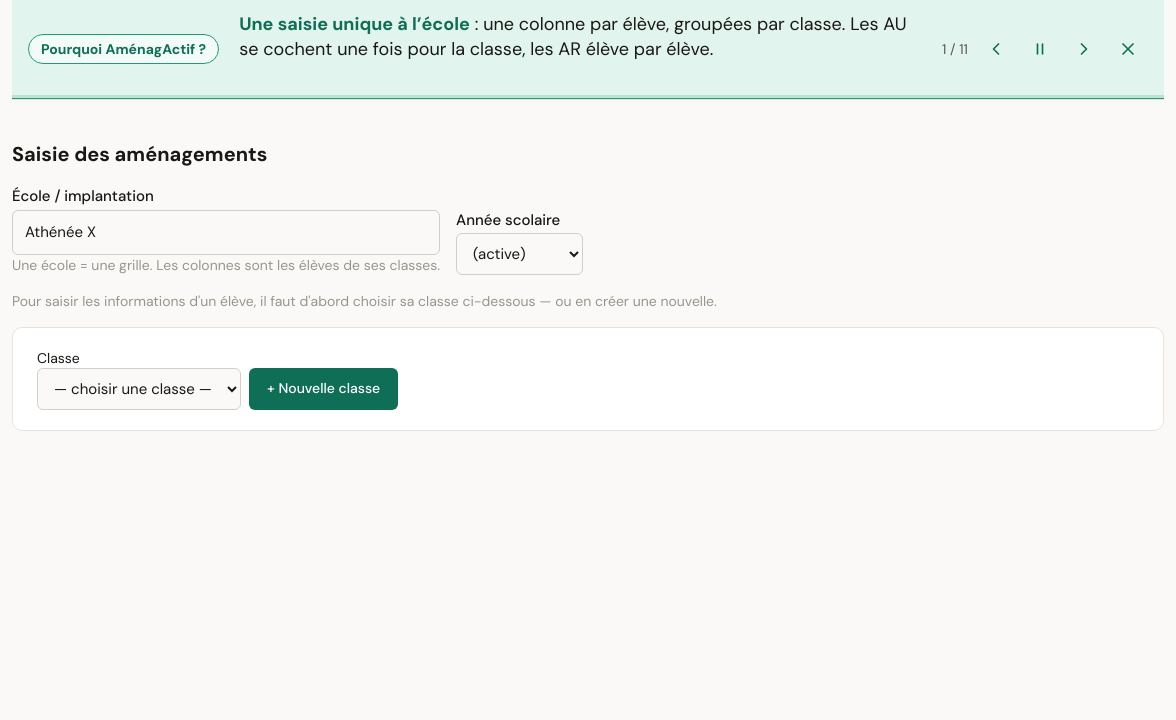
Test case: SaisieEcole : dispositifs › (a) mode AR : en-tête du dispositif dans la grille et ligne récapitulative
Select "5LA — 5e" in the dropdown labelled "Classe" at (139, 389), box [37,368,241,410]
(page scrolled)
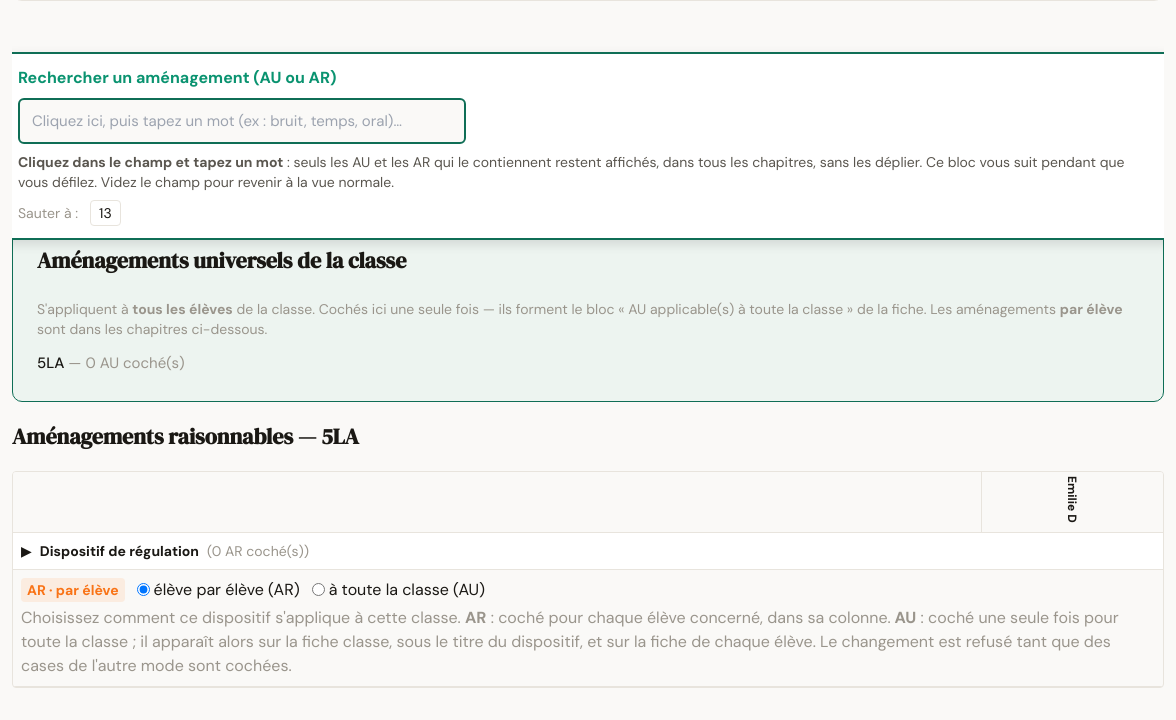
Result: the text "AR · par élève" is shown at [21,578,125,602]
Result: the button "▶ Dispositif de régulation (0 AR coché(s))" is shown at [13,532,1163,570]
